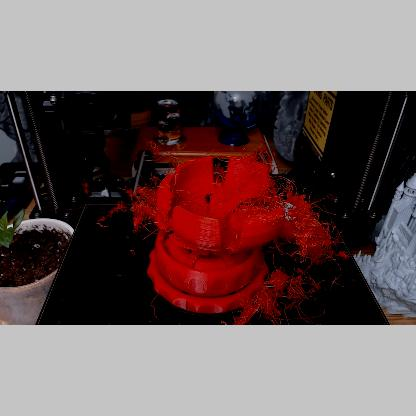fail: (264, 246, 336, 324), (270, 178, 338, 244), (96, 176, 154, 238), (225, 296, 265, 324)
